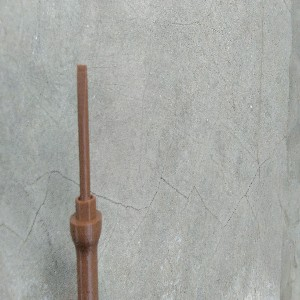obeng: (69, 63, 103, 300)
